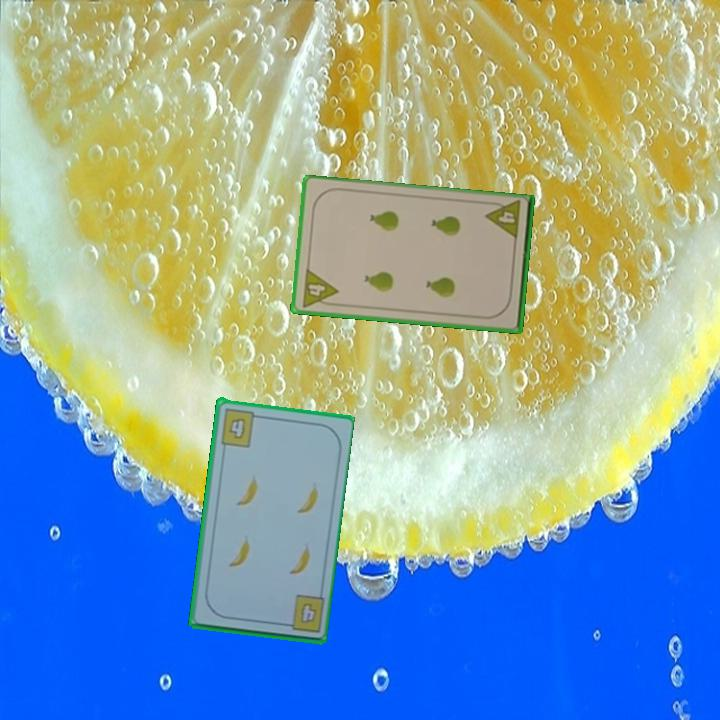4b: (279, 591, 327, 635), (217, 404, 263, 449)
4p: (298, 265, 341, 310), (483, 198, 523, 243)
